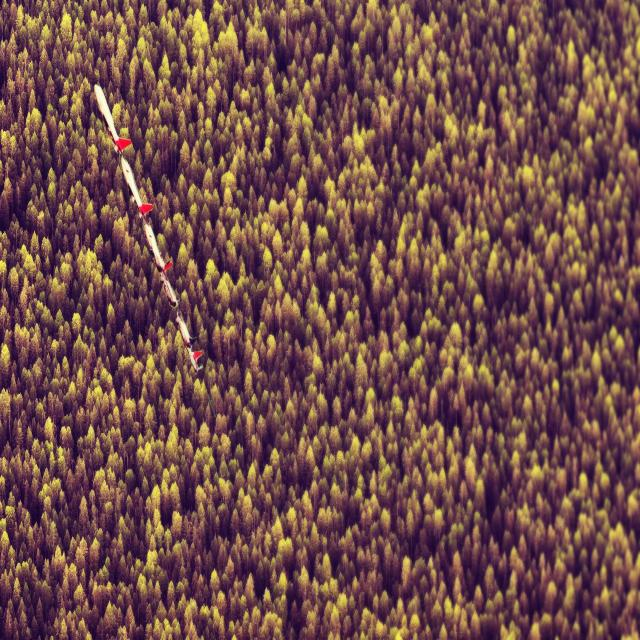airplane: (142, 220, 180, 307), (92, 81, 134, 155), (121, 155, 153, 218), (175, 310, 204, 374)
